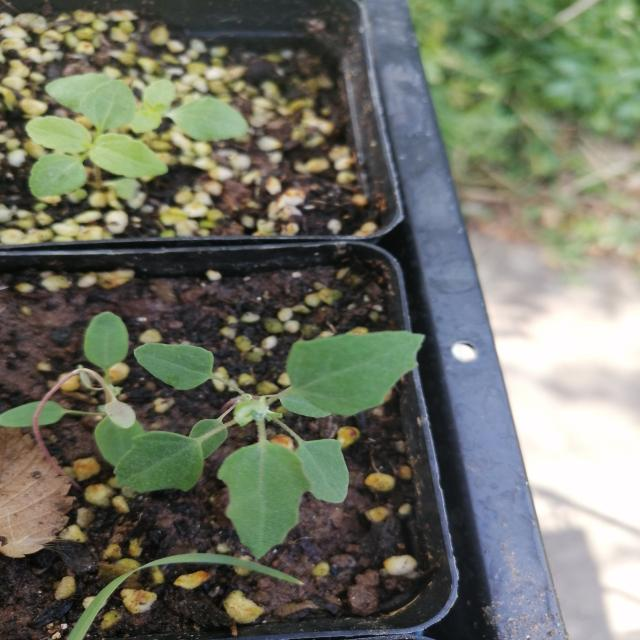goosefoots: (112, 312, 415, 536)
